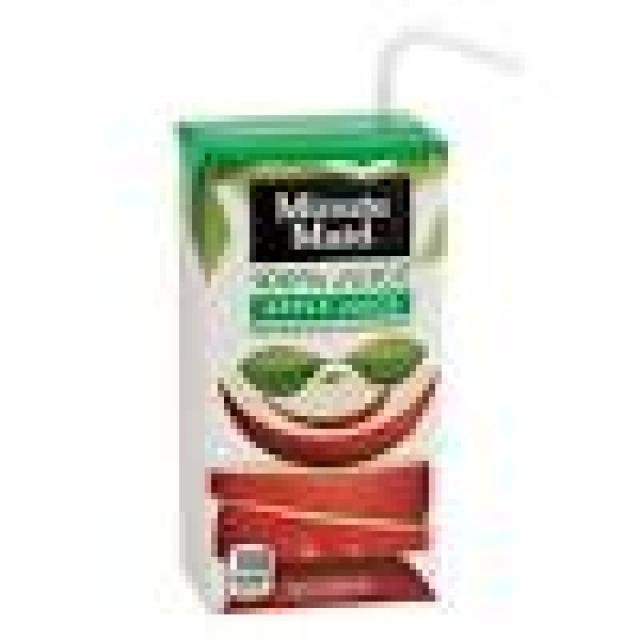non_white_jug: (134, 99, 442, 611)
